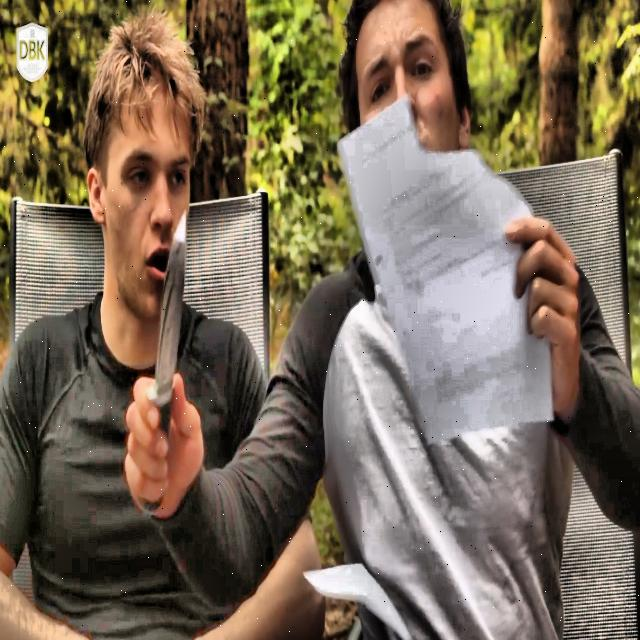knife: (139, 208, 187, 512)
